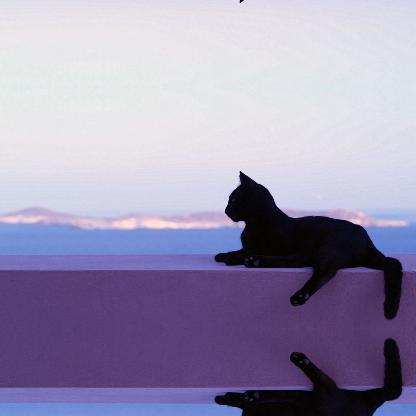Cat: (214, 170, 402, 318), (213, 337, 403, 415)
